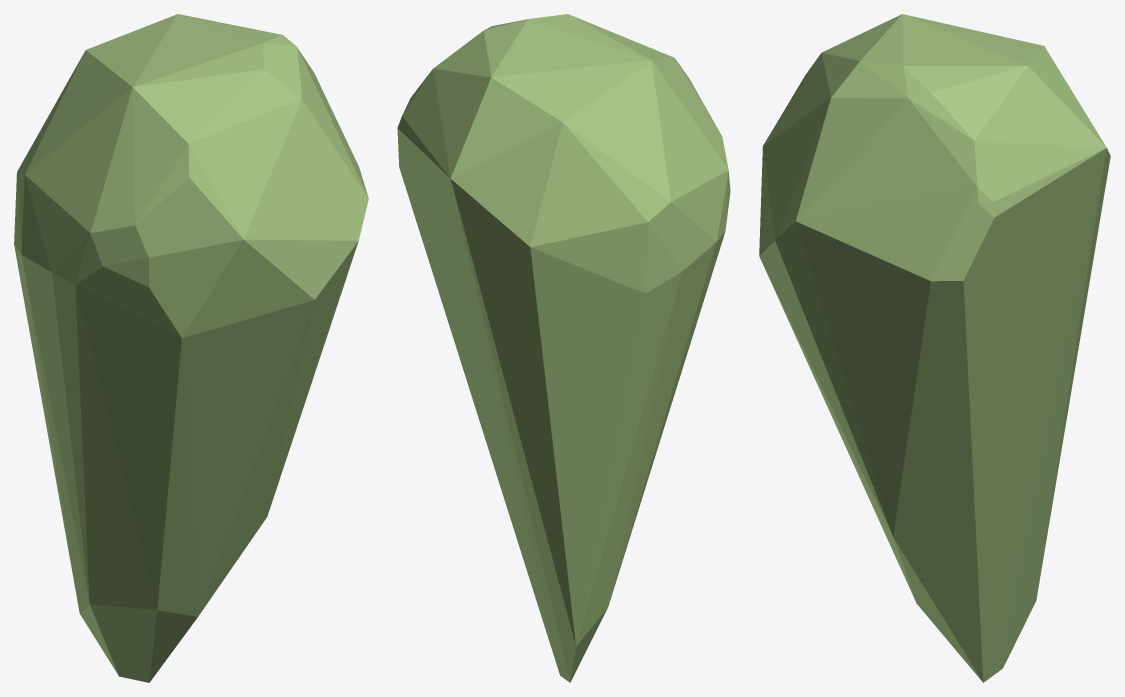
File: food_produce_pear_a01.glb
The picture shows the model from 3 angles, left to right: view 1: azimuth 30°, elevation 25°; view 2: azimuth 150°, elevation 25°; view 3: azimuth 270°, elevation 25°; orthographic projection. The views are drawn at different scales.
Parts seen in each view (by area): view 1: geometry_0; view 2: geometry_0; view 3: geometry_0.
Boxes of the visible parts, x1,y1,x2,y2 form: geometry_0: [14, 14, 368, 682]; geometry_0: [397, 14, 730, 682]; geometry_0: [759, 14, 1110, 682].
Bounding box in the file's own units: 0.2177 × 0.4291 × 0.2093.
